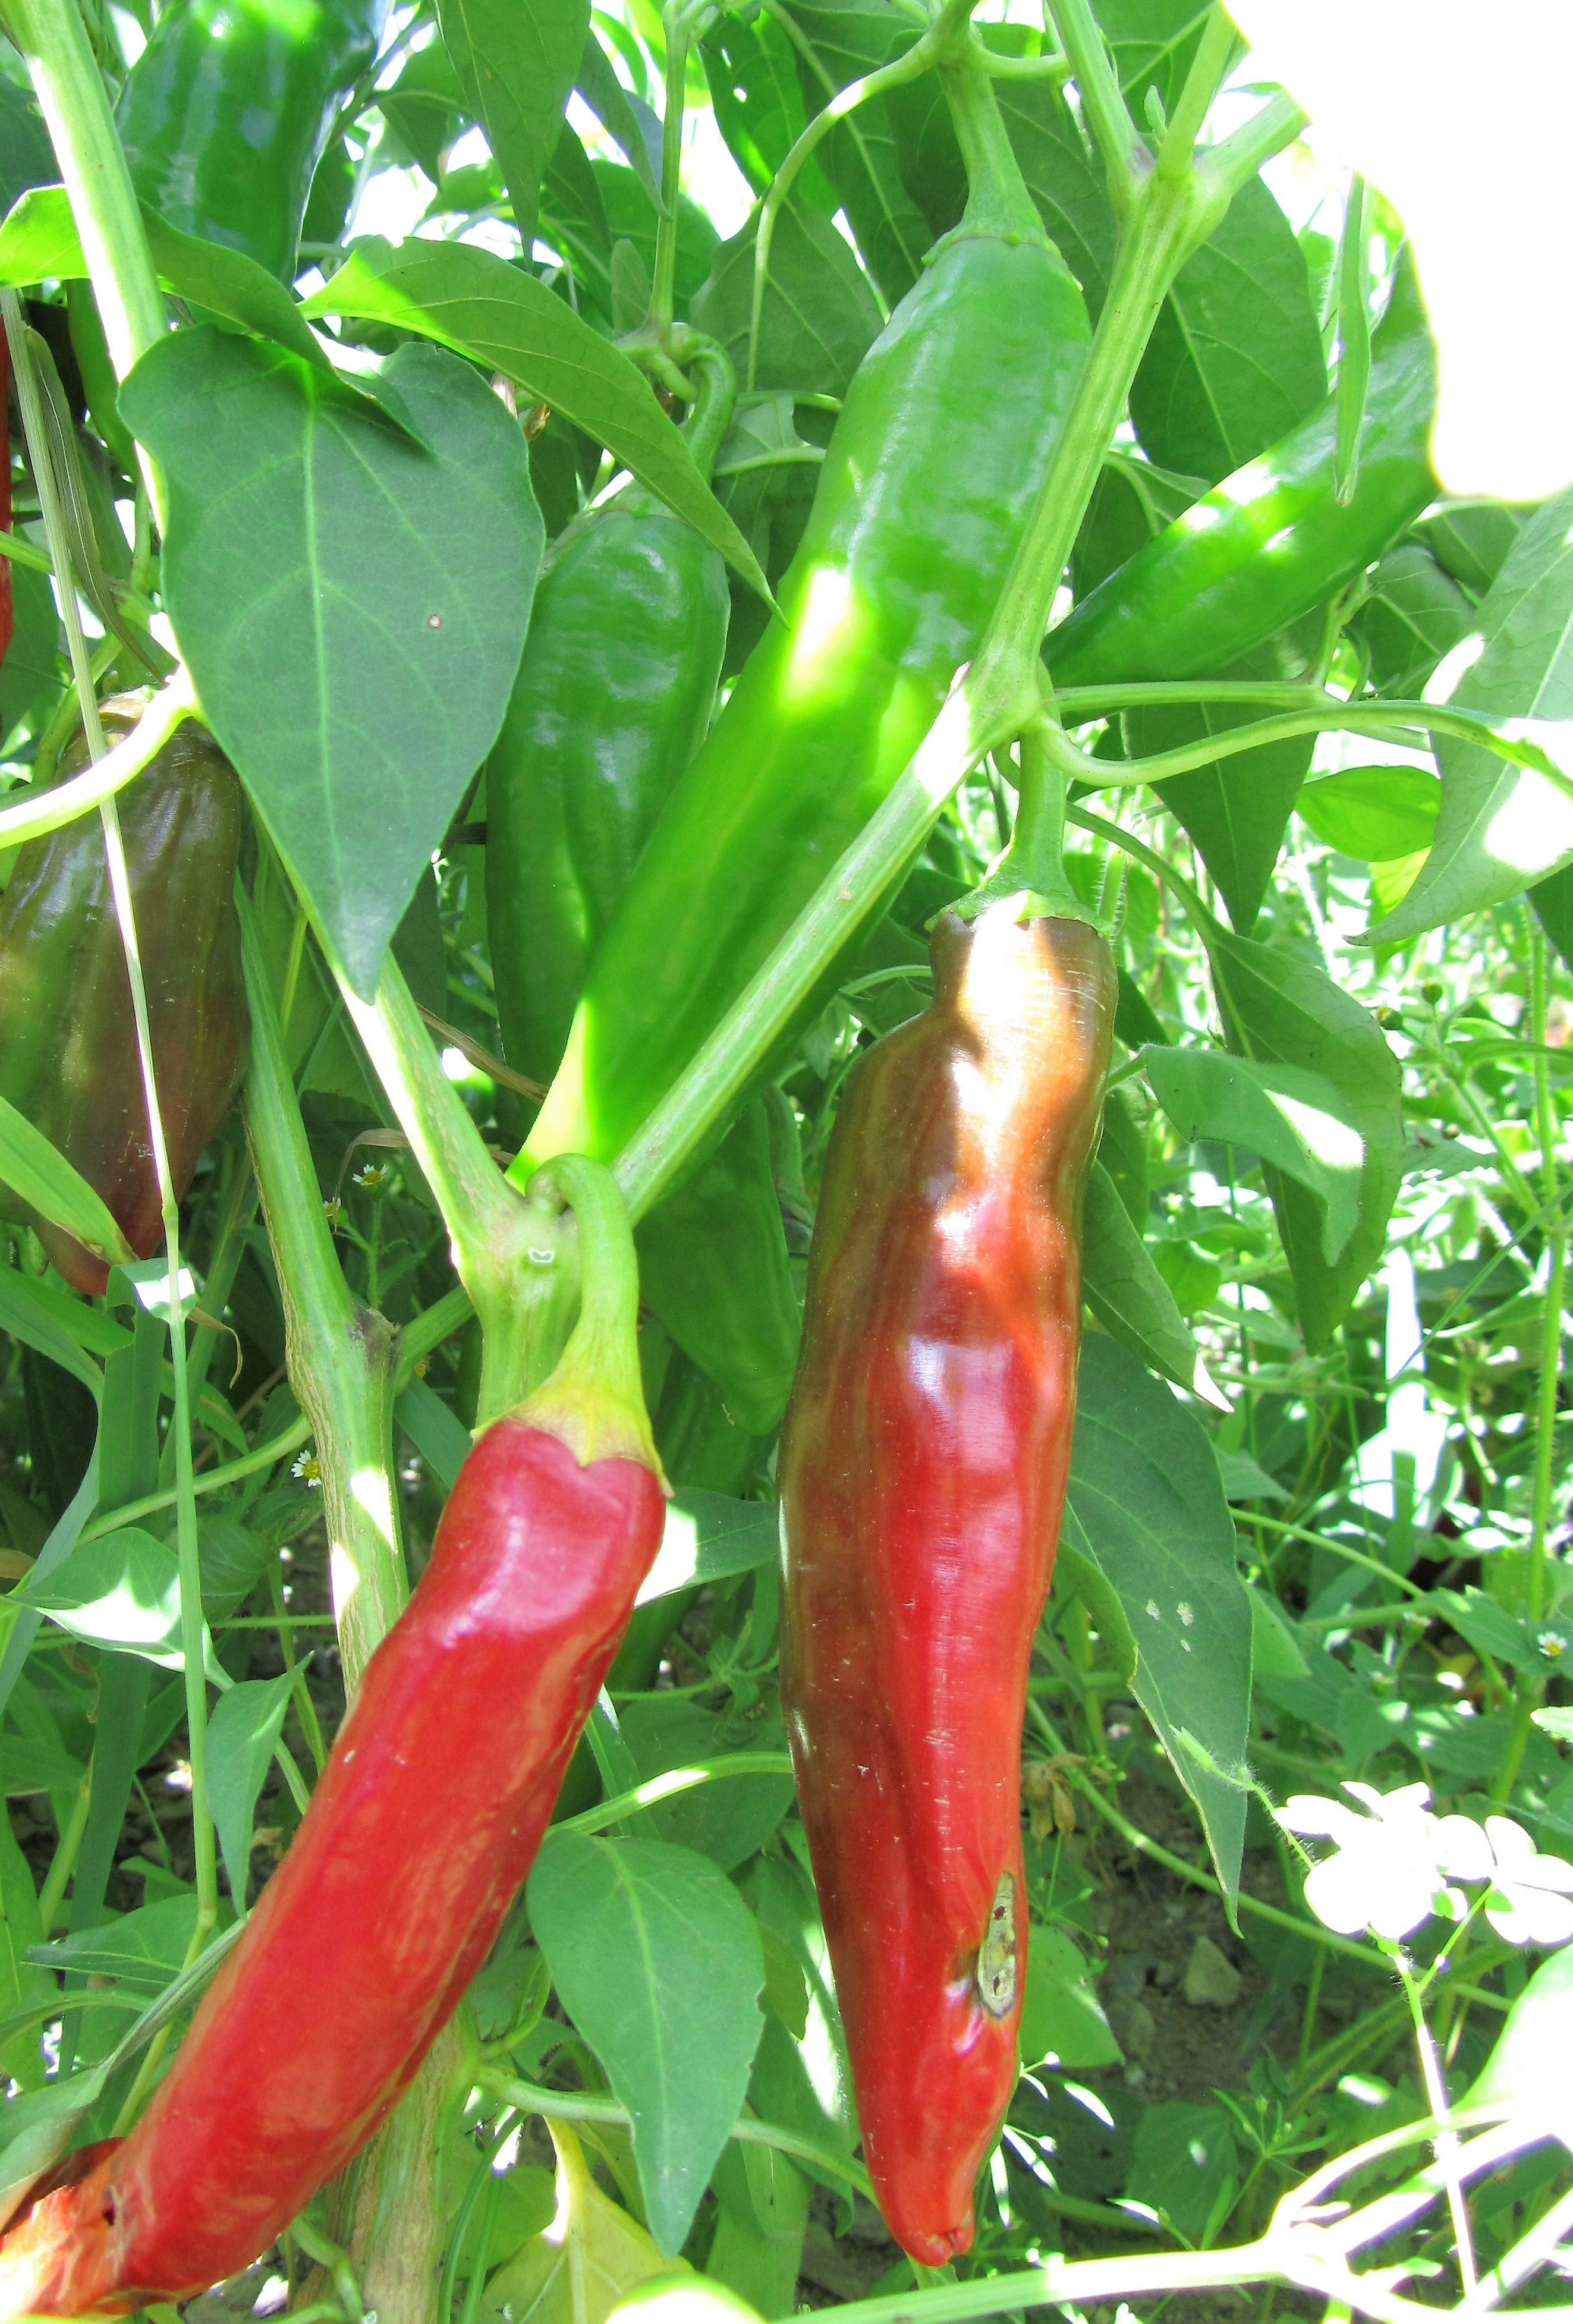paprika: (2, 1148, 672, 2317), (497, 218, 1095, 1215), (772, 890, 1120, 2266), (481, 486, 734, 1104), (2, 686, 253, 1299)
